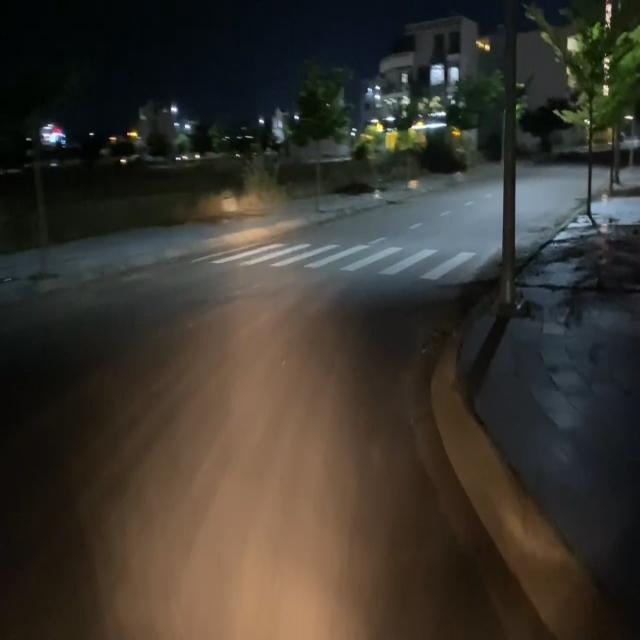walk-crossing: (205, 226, 470, 278)
